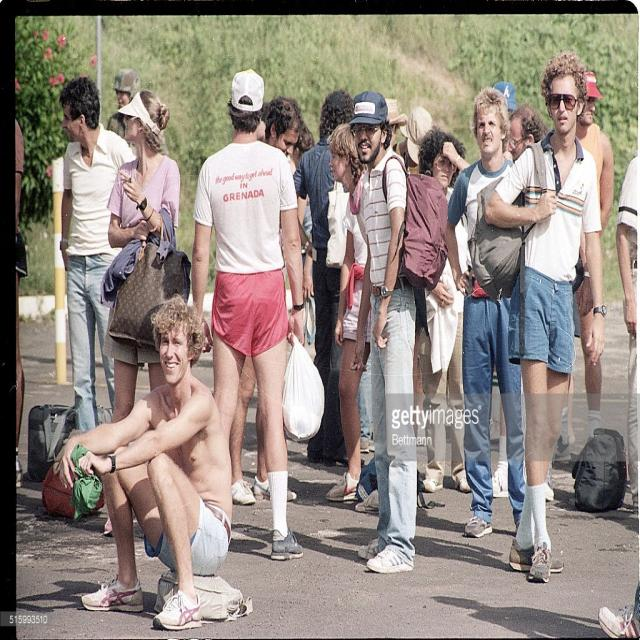body: (481, 49, 611, 586), (188, 67, 308, 564), (59, 294, 234, 634), (347, 89, 451, 575), (442, 86, 526, 538), (58, 74, 138, 430), (100, 87, 182, 425), (548, 60, 616, 459), (292, 88, 358, 470), (356, 91, 418, 491), (416, 126, 474, 494), (326, 121, 372, 502), (430, 579, 639, 639), (615, 152, 640, 516), (228, 515, 379, 569), (16, 567, 158, 623), (9, 110, 28, 490), (14, 492, 113, 552), (414, 514, 519, 570), (107, 66, 144, 152), (392, 104, 436, 172), (262, 94, 304, 159), (506, 104, 550, 164)
